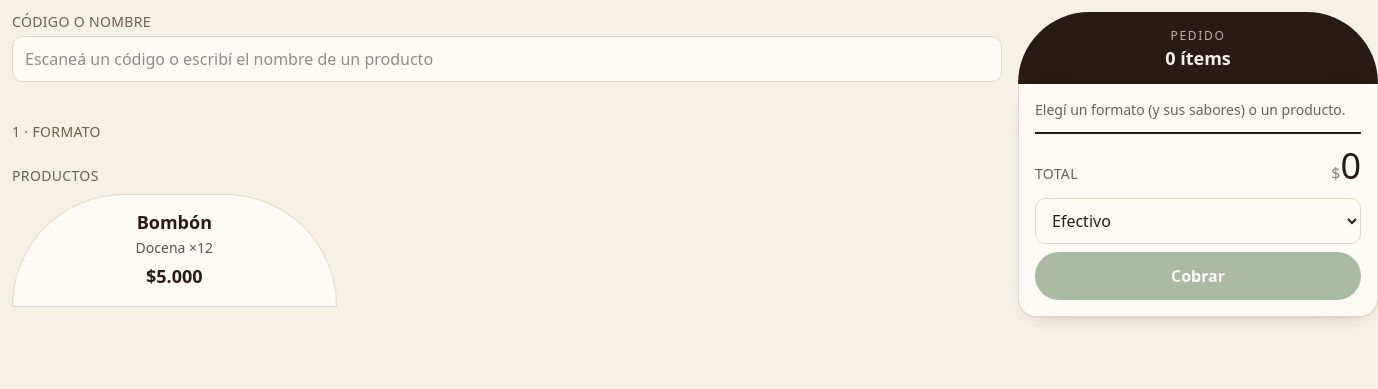
it: FormularioTicket: después de cobrar › el aviso dice el total que registró el servidor, no el que suma el carrito
Click the button "Bombón Docena ×12 $5.000". click: (174, 250)
box: [12,194,337,306]
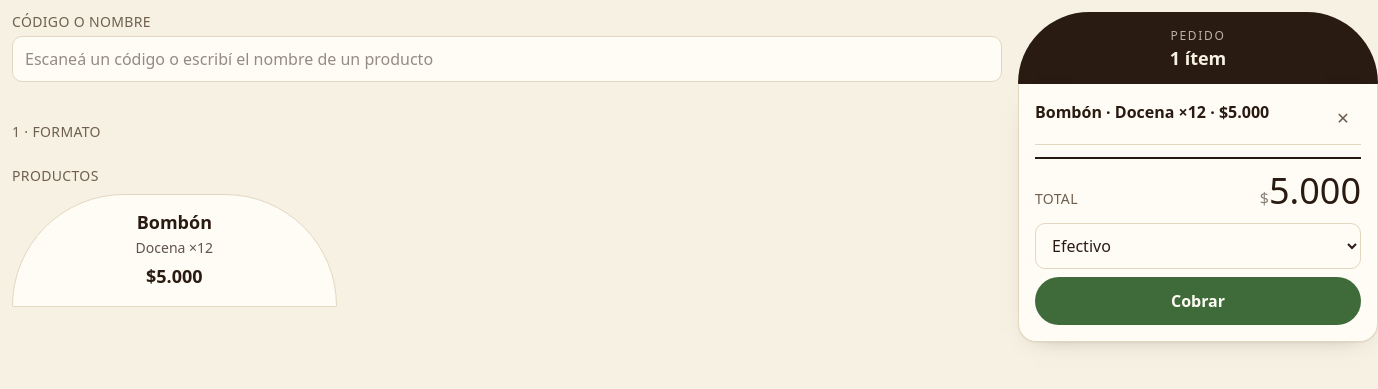
Submit the form "Cobrar", box [1035,223,1361,325]
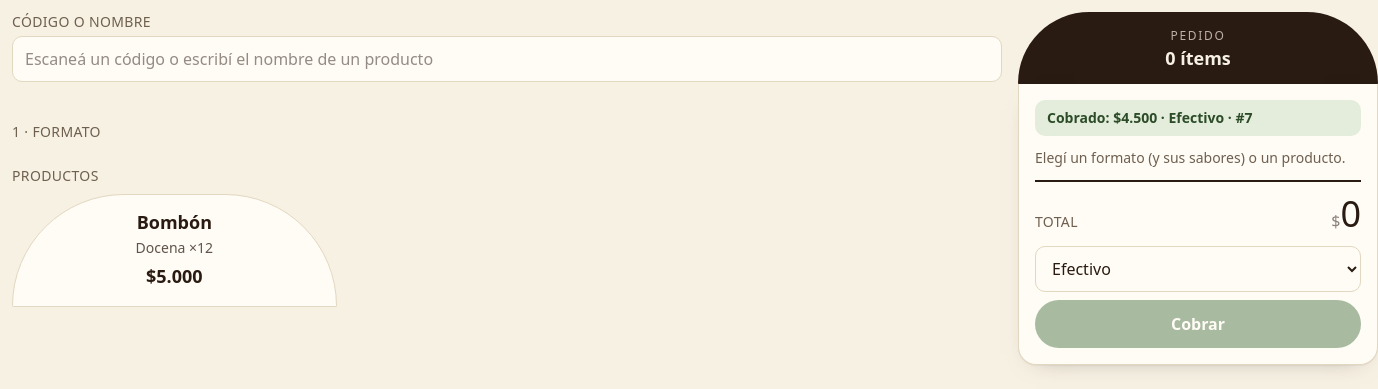
Result: the message reads "Cobrado: $4.500 · Efectivo · #7" at [1035,100,1361,136]
